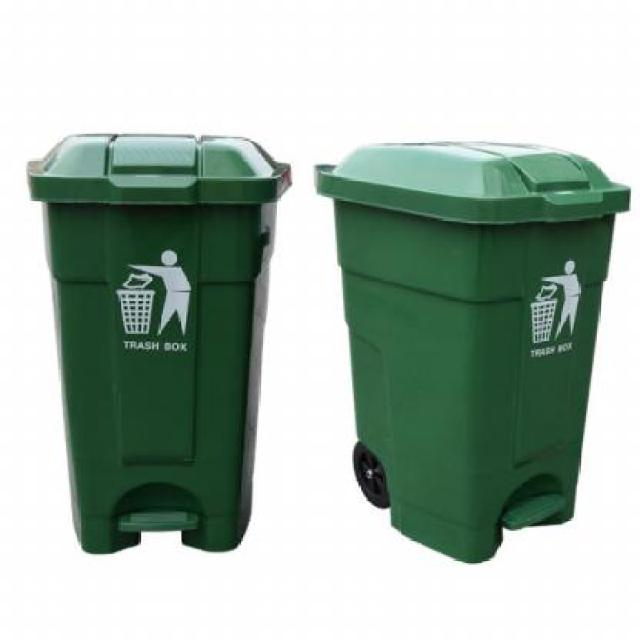garbage container: (298, 130, 636, 576), (18, 121, 310, 576)
